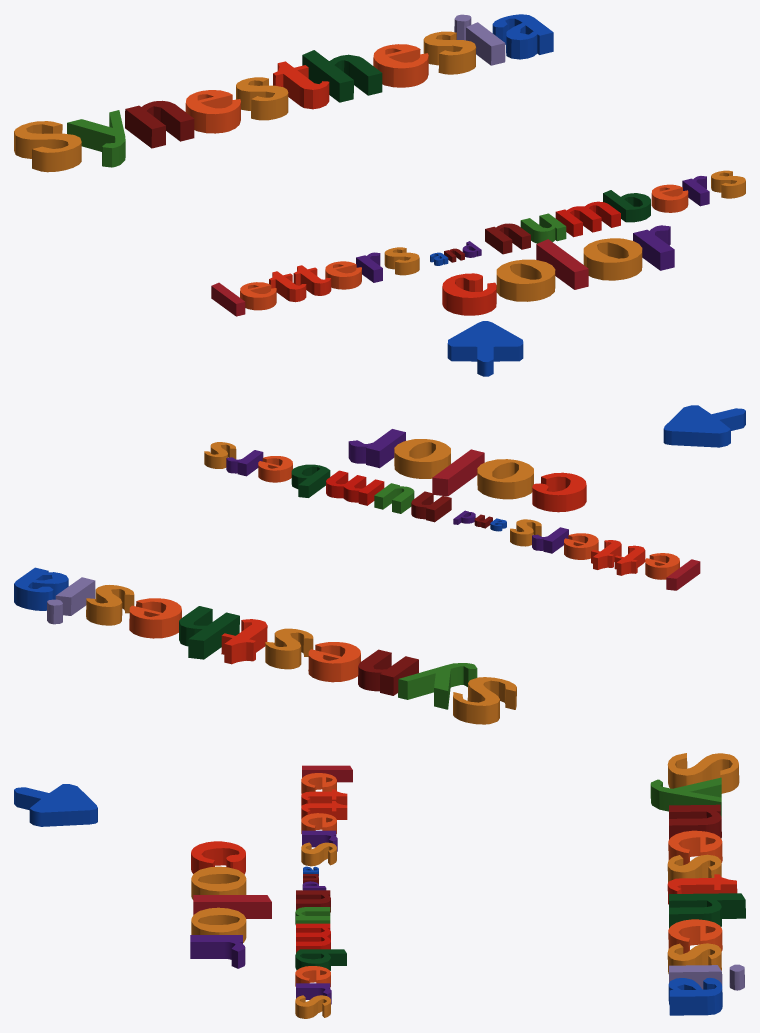
File: postermodel.obj
3 renders of one model, top to bottom at view 1: azimuth 30°, elevation 25°; view 2: azimuth 150°, elevation 25°; view 3: azimuth 270°, elevation 25°, orthographic. The views are drawn at different scales.
Visible parts, largest first — view 1: planarTrimmedSurface12, pCube1, planarTrimmedSurface18, planarTrimmedSurface14, planarTrimmedSurface41, planarTrimmedSurface43, planarTrimmedSurface22, planarTrimmedSurface19, planarTrimmedSurface15, planarTrimmedSurface40, planarTrimmedSurface13, planarTrimmedSurface20 (+19 smaller); view 2: pCube1, planarTrimmedSurface12, planarTrimmedSurface18, planarTrimmedSurface13, planarTrimmedSurface41, planarTrimmedSurface43, planarTrimmedSurface15, planarTrimmedSurface40, planarTrimmedSurface19, planarTrimmedSurface14, planarTrimmedSurface22, planarTrimmedSurface16 (+19 smaller); view 3: pCube1, planarTrimmedSurface18, planarTrimmedSurface12, planarTrimmedSurface22, planarTrimmedSurface13, planarTrimmedSurface14, planarTrimmedSurface41, planarTrimmedSurface44, planarTrimmedSurface42, planarTrimmedSurface40, planarTrimmedSurface43, planarTrimmedSurface19 (+19 smaller).
Boxes of the visible parts, box(x1,y1,x2,y2) form: planarTrimmedSurface12: box(14, 121, 81, 172); pCube1: box(447, 321, 523, 376); planarTrimmedSurface18: box(302, 50, 382, 102); planarTrimmedSurface14: box(125, 100, 194, 148); planarTrimmedSurface41: box(496, 259, 555, 301); planarTrimmedSurface43: box(583, 238, 642, 280); planarTrimmedSurface22: box(492, 14, 553, 59); planarTrimmedSurface19: box(373, 44, 428, 87); planarTrimmedSurface15: box(185, 90, 240, 133); planarTrimmedSurface40: box(442, 273, 496, 315); planarTrimmedSurface13: box(67, 110, 125, 167); planarTrimmedSurface20: box(423, 31, 476, 74); pCube1: box(663, 405, 745, 447); planarTrimmedSurface12: box(453, 677, 516, 724); planarTrimmedSurface18: box(179, 606, 239, 659); planarTrimmedSurface13: box(398, 663, 477, 709); planarTrimmedSurface41: box(477, 459, 533, 499); planarTrimmedSurface43: box(394, 439, 450, 478); planarTrimmedSurface15: box(308, 642, 360, 682); planarTrimmedSurface40: box(532, 472, 586, 512); planarTrimmedSurface19: box(129, 598, 181, 638); planarTrimmedSurface14: box(358, 649, 418, 695); planarTrimmedSurface22: box(14, 567, 68, 610); planarTrimmedSurface16: box(265, 628, 313, 669); pCube1: box(14, 784, 97, 826); planarTrimmedSurface18: box(669, 893, 745, 928); planarTrimmedSurface12: box(667, 753, 739, 793); planarTrimmedSurface22: box(668, 978, 722, 1015); planarTrimmedSurface13: box(650, 777, 721, 817); planarTrimmedSurface14: box(669, 804, 721, 839); planarTrimmedSurface41: box(191, 866, 246, 899); planarTrimmedSurface44: box(190, 935, 245, 968); planarTrimmedSurface42: box(193, 895, 271, 918); planarTrimmedSurface40: box(191, 841, 245, 874); planarTrimmedSurface43: box(191, 907, 246, 942); planarTrimmedSurface19: box(668, 919, 722, 953).
Size of the model in its own units: 1.09 by 0.0816 by 1.38.
